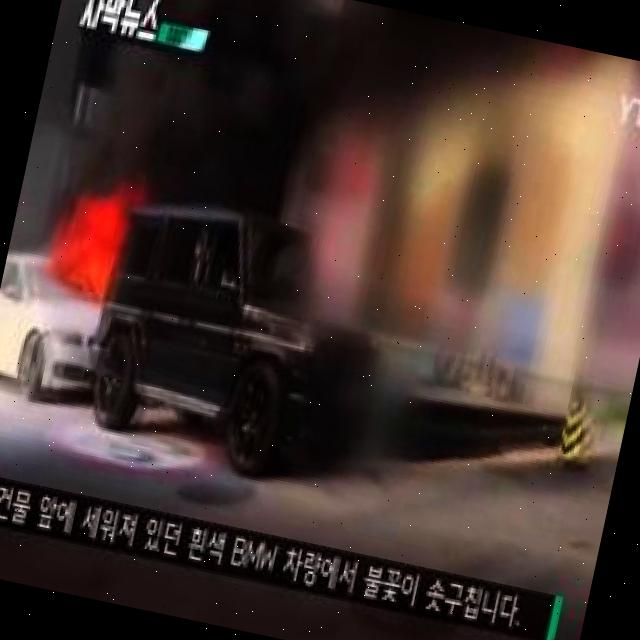fire: (64, 220, 126, 297)
